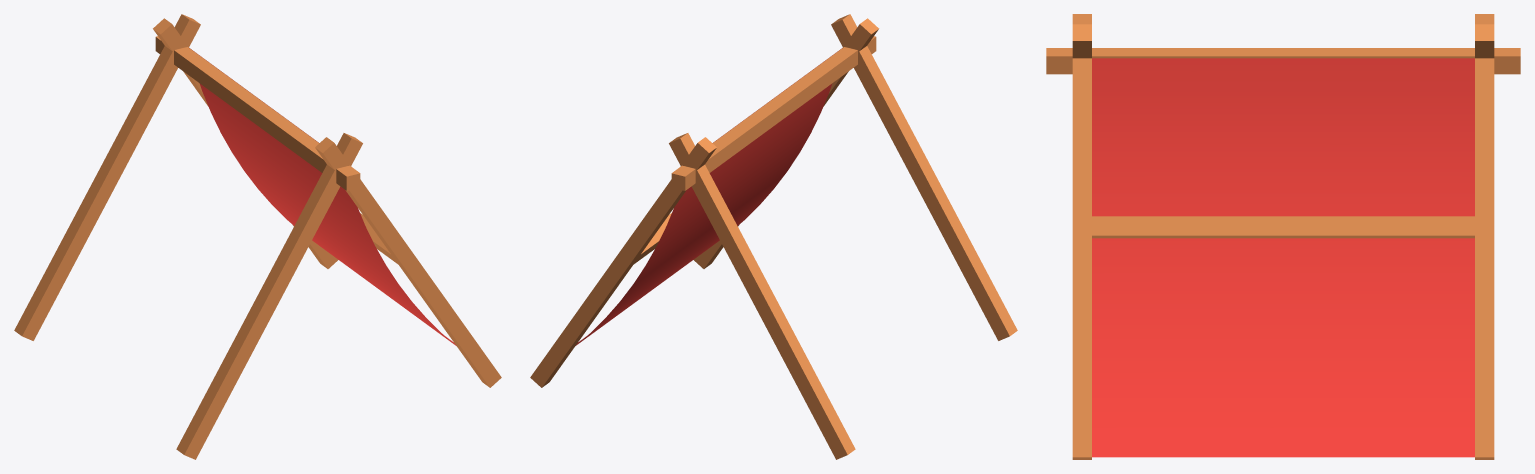
The model's file is tentHalf.fbx.
3 renders of one model, left to right at view 1: azimuth 30°, elevation 25°; view 2: azimuth 150°, elevation 25°; view 3: azimuth 270°, elevation 25°, orthographic. The views are drawn at different scales.
Parts seen in each view (by area): view 1: tentHalf; view 2: tentHalf; view 3: tentHalf.
Part boxes in pixels (bbox=[...]): tentHalf: bbox=[14, 14, 501, 459]; tentHalf: bbox=[530, 14, 1017, 459]; tentHalf: bbox=[1046, 14, 1520, 459].
Bounding box in the file's own units: 5.39 × 4.6 × 5.62.
